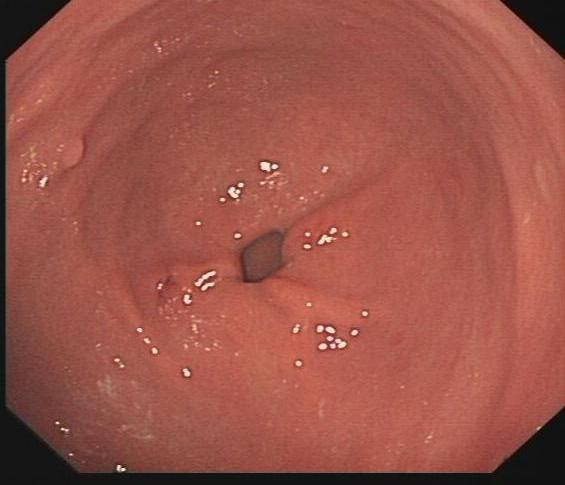Polyp: (42, 120, 101, 184)
